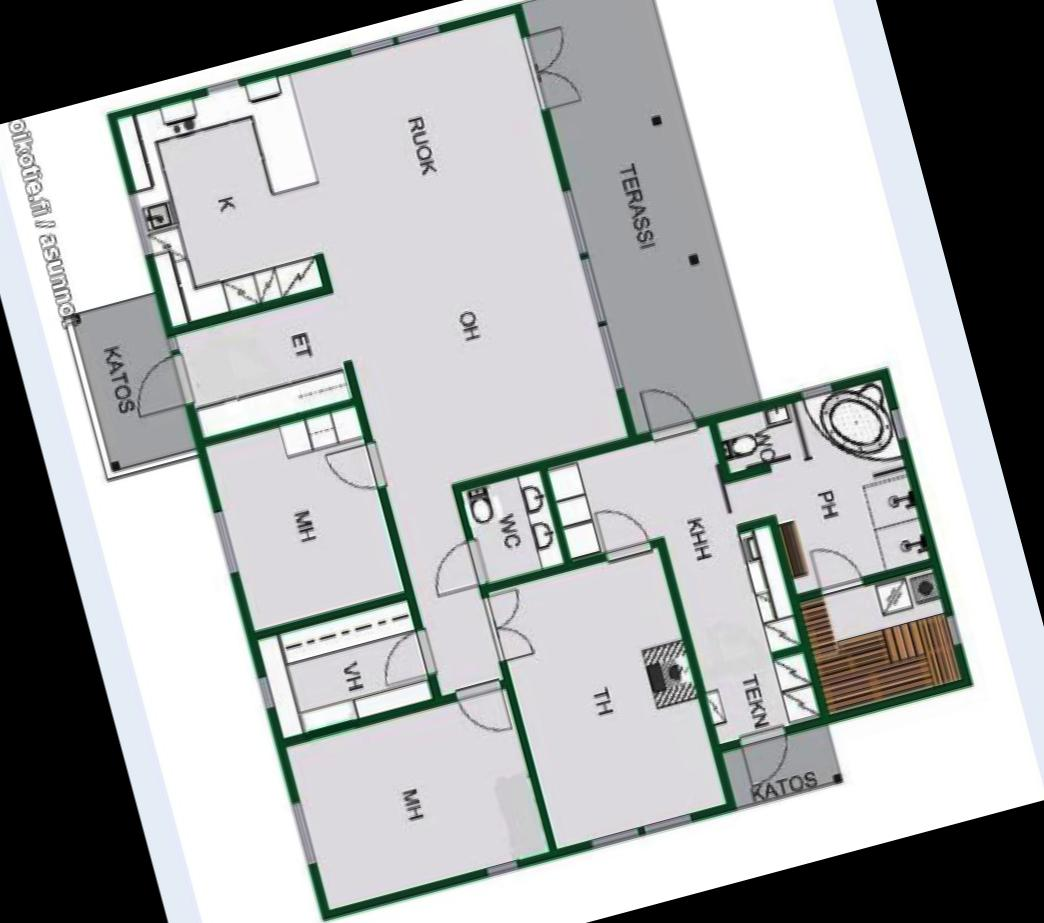door: (122, 348, 195, 422), (418, 534, 490, 604), (632, 375, 701, 446), (372, 626, 440, 692), (590, 499, 656, 567), (732, 721, 798, 788), (320, 436, 387, 498), (452, 674, 510, 742), (808, 535, 868, 600), (525, 59, 587, 120), (515, 19, 576, 76), (485, 616, 534, 670), (477, 582, 527, 627)
window: (204, 498, 246, 584), (573, 248, 613, 329), (590, 316, 630, 396), (284, 792, 322, 872), (121, 183, 158, 263), (556, 179, 591, 261), (583, 820, 650, 858), (634, 806, 703, 841), (338, 30, 403, 64), (387, 15, 447, 51), (196, 69, 249, 102), (248, 668, 282, 717), (479, 851, 529, 884)
